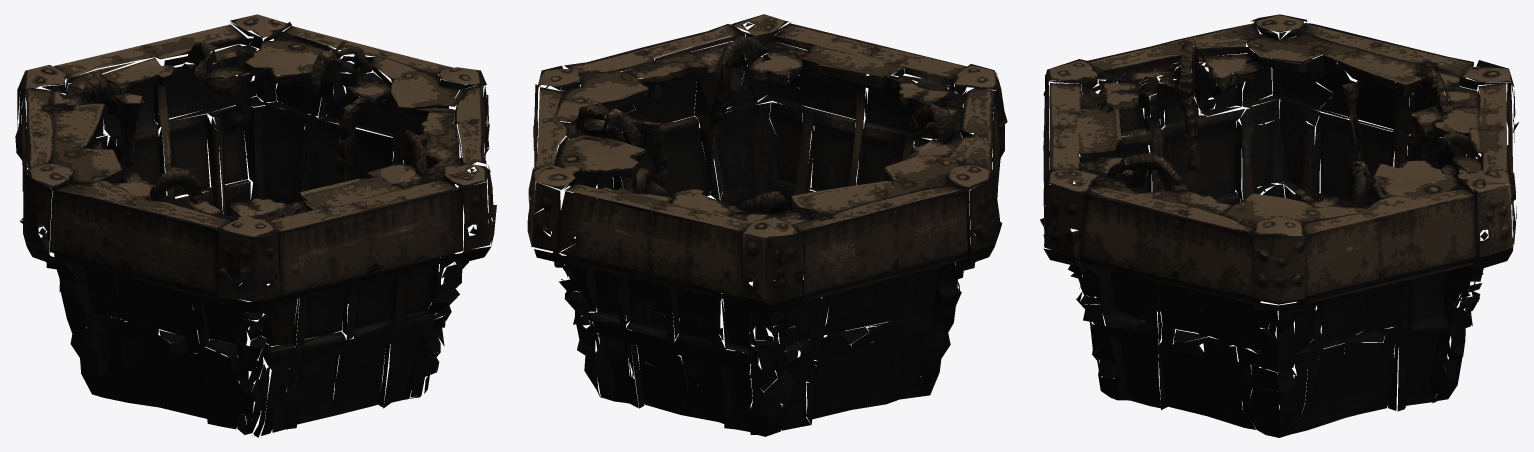
Rendered from tr_pit.glb.
The picture shows the model from 3 angles, left to right: view 1: azimuth 30°, elevation 25°; view 2: azimuth 150°, elevation 25°; view 3: azimuth 270°, elevation 25°; orthographic projection.
Parts seen in each view (by area): view 1: tr_pit; view 2: tr_pit; view 3: tr_pit.
Boxes of the visible parts, left/top/right/bottom form: tr_pit: left=15, top=14, right=496, bottom=437; tr_pit: left=527, top=14, right=1007, bottom=436; tr_pit: left=1040, top=14, right=1518, bottom=437.
Size of the model in its own units: 1.5 by 0.8033 by 1.36.
Materials: 1 (1 with a texture image).
